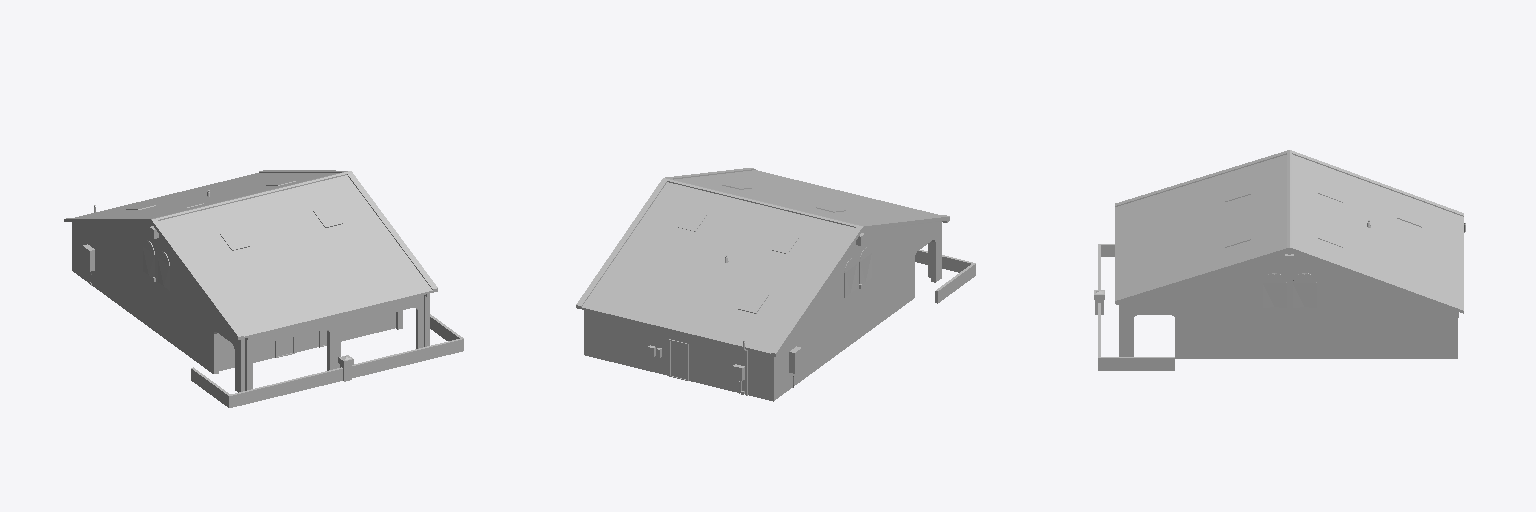
The picture shows the model from 3 angles: view 1: azimuth 30°, elevation 25°; view 2: azimuth 150°, elevation 25°; view 3: azimuth 270°, elevation 25°; orthographic projection.
Parts seen in each view (by area): view 1: test; view 2: test; view 3: test.
Boxes of the visible parts, x1,y1,x2,y2 form: test: [64, 170, 463, 407]; test: [576, 168, 975, 401]; test: [1094, 150, 1465, 370].
Size of the model in its own units: 1.83 by 0.8526 by 2.51.